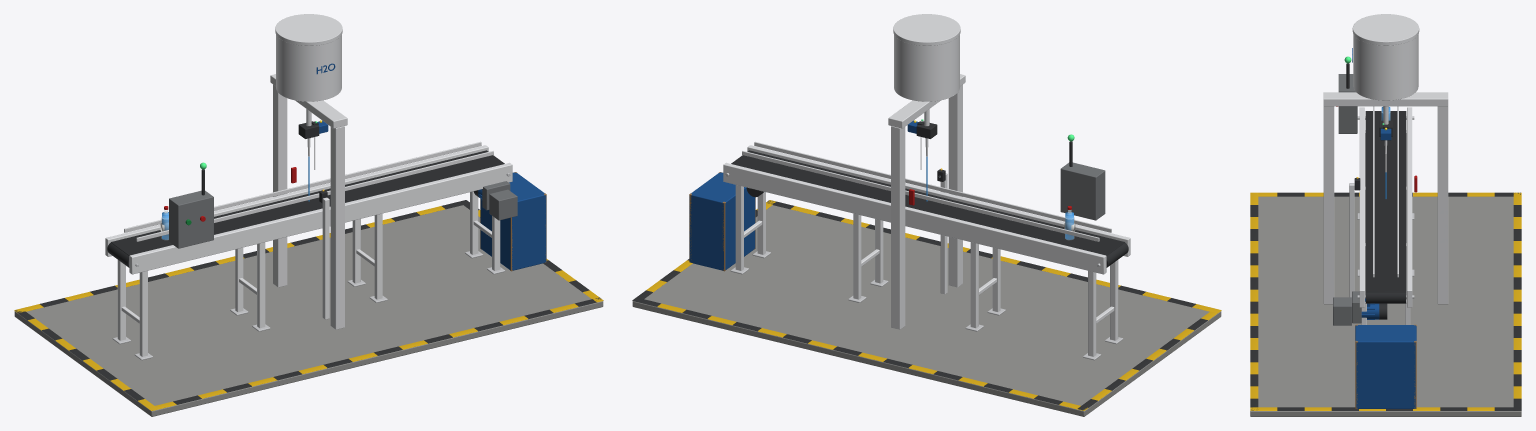
Rendered from machine_fill.glb.
3 views of the same model, side by side, from view 1: azimuth 30°, elevation 25°; view 2: azimuth 150°, elevation 25°; view 3: azimuth 270°, elevation 25° (orthographic).
Visible parts, largest first — view 1: frame; view 2: frame; view 3: frame.
Part boxes in pixels (box(x1,y1,x2,y2)): frame: box(14, 14, 603, 416); frame: box(632, 14, 1221, 416); frame: box(1250, 14, 1521, 416).
Size of the model in its own units: 3.8 by 2.28 by 2.
